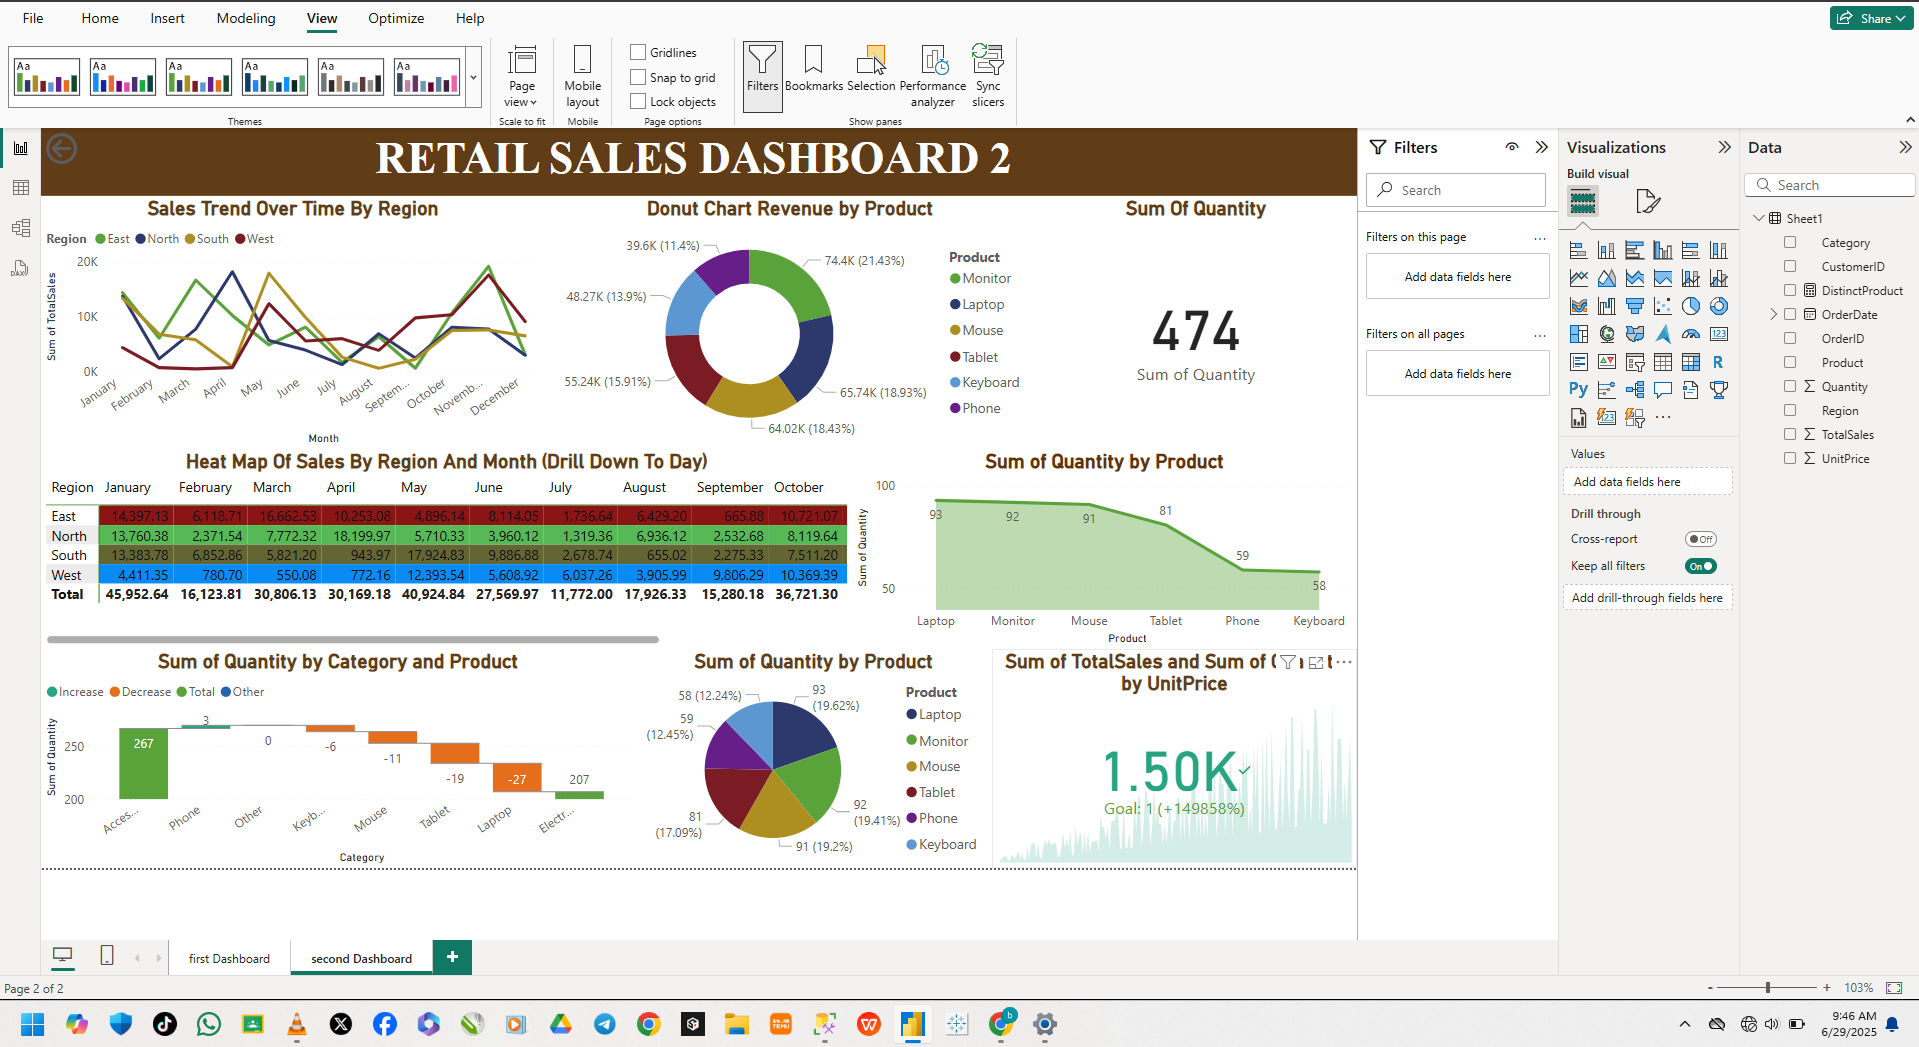

What the dashboard file says about the page in this screenshot:
{"tool":"powerbi","page":{"name":"second Dashboard","canvas":[1280,720],"ordinal":1},"visuals":[{"type":"textbox","box":[0,0,1280,66.1],"z":0},{"type":"lineChart","title":"Sales Trend Over Time By Region","fields":{"Category":["Sheet1.OrderDate.Variation.Date Hierarchy.Month"],"Series":["Sheet1.Region"],"Y":["Sum(Sheet1.TotalSales)"]},"box":[0,66.1,490.2,246.1],"z":1000},{"type":"card","title":"Sum Of Quantity","fields":{"Values":["Sum(Sheet1.Quantity)"]},"box":[966.8,66.1,313.2,246.1],"z":2000},{"type":"pivotTable","title":"Heat Map Of Sales By Region And Month (Drill Down To Day)","fields":{"Rows":["Sheet1.Region"],"Columns":["Sheet1.OrderDate.Variation.Date Hierarchy.Month","Sheet1.OrderDate.Variation.Date Hierarchy.Day"],"Values":["Sum(Sheet1.TotalSales)"]},"box":[0,312.2,788.8,194.5],"z":3000},{"type":"actionButton","box":[0,0,100,40],"z":4000},{"type":"donutChart","title":"Donut Chart Revenue by Product","fields":{"Category":["Sheet1.Product"],"Y":["Sum(Sheet1.TotalSales)"]},"box":[490.2,66.1,476.6,246.1],"z":5000},{"type":"areaChart","fields":{"Category":["Sheet1.Product"],"Y":["Sum(Sheet1.Quantity)"]},"box":[788.8,312.2,491.2,194.5],"z":6000},{"type":"waterfallChart","fields":{"Category":["Sheet1.Category"],"Breakdown":["Sheet1.Product"],"Y":["Sum(Sheet1.Quantity)"]},"box":[0,506.7,577.8,213],"z":7000},{"type":"kpi","fields":{"Indicator":["Sum(Sheet1.TotalSales)"],"Goal":["Sum(Sheet1.Quantity)"],"TrendLine":["Sheet1.UnitPrice"]},"box":[925,506.7,355,213],"z":8000},{"type":"pieChart","fields":{"Category":["Sheet1.Product"],"Y":["Sum(Sheet1.Quantity)"]},"box":[577.8,506.7,347.2,213],"z":8001}]}

Visuals, with their boxes on the page's 1280x720 design canvas (x1, y1, x2, y2). These are canvas units, not pixel positions in the 1919x1047 screenshot, which may show the page scaled, cropped or inside an application window:
textbox: {"x1": 0, "y1": 0, "x2": 1280, "y2": 66}
"Sales Trend Over Time By Region" lineChart: {"x1": 0, "y1": 66, "x2": 490, "y2": 312}
"Sum Of Quantity" card: {"x1": 967, "y1": 66, "x2": 1280, "y2": 312}
"Heat Map Of Sales By Region And Month (Drill Down To Day)" pivotTable: {"x1": 0, "y1": 312, "x2": 789, "y2": 507}
actionButton: {"x1": 0, "y1": 0, "x2": 100, "y2": 40}
"Donut Chart Revenue by Product" donutChart: {"x1": 490, "y1": 66, "x2": 967, "y2": 312}
areaChart - Sheet1.Product x Sum(Sheet1.Quantity): {"x1": 789, "y1": 312, "x2": 1280, "y2": 507}
waterfallChart - Sheet1.Category x Sheet1.Product: {"x1": 0, "y1": 507, "x2": 578, "y2": 720}
kpi - Sum(Sheet1.TotalSales) x Sum(Sheet1.Quantity): {"x1": 925, "y1": 507, "x2": 1280, "y2": 720}
pieChart - Sheet1.Product x Sum(Sheet1.Quantity): {"x1": 578, "y1": 507, "x2": 925, "y2": 720}
